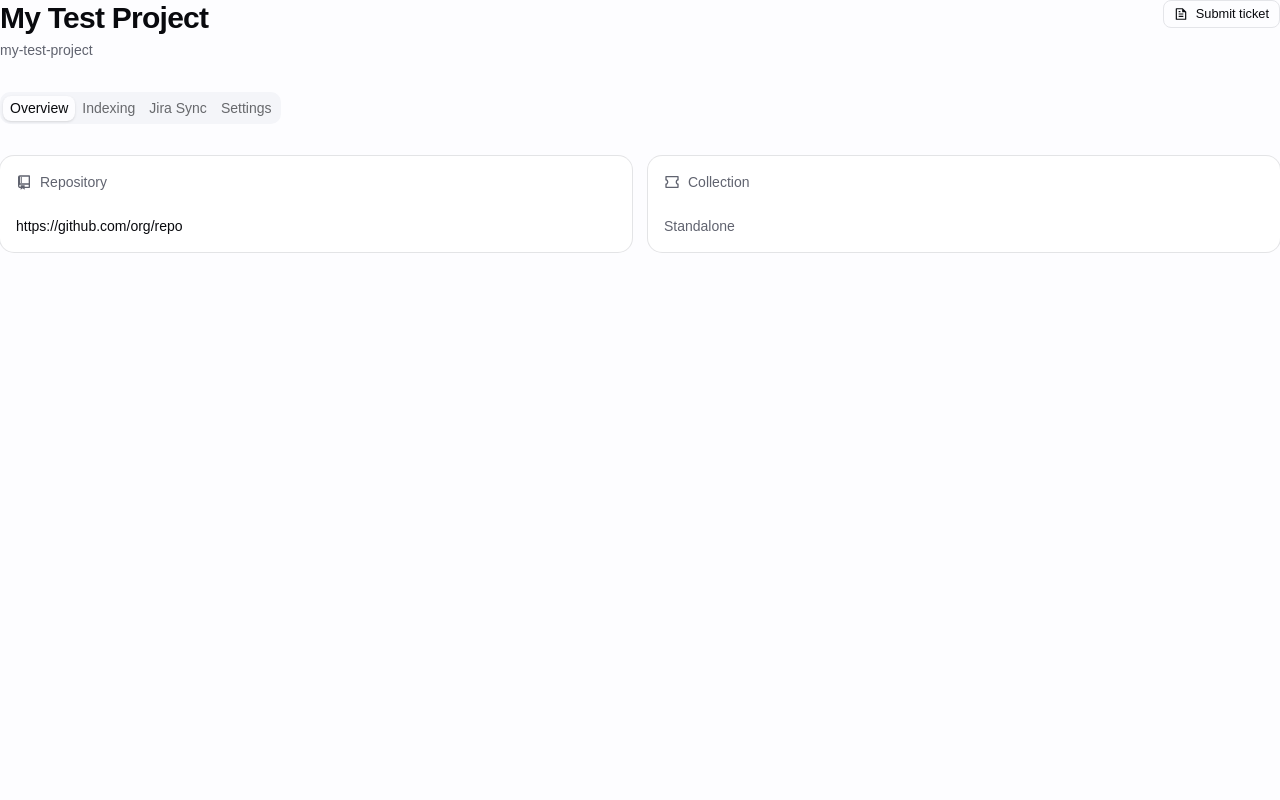
Test: ProjectDetailPage › delete project opens confirmation dialog
Check: the heading "My Test Project" is shown, box [0, 0, 208, 36]
Click the tab "Settings": coordinates (246, 108) [214, 96, 278, 120]
(page scrolled)
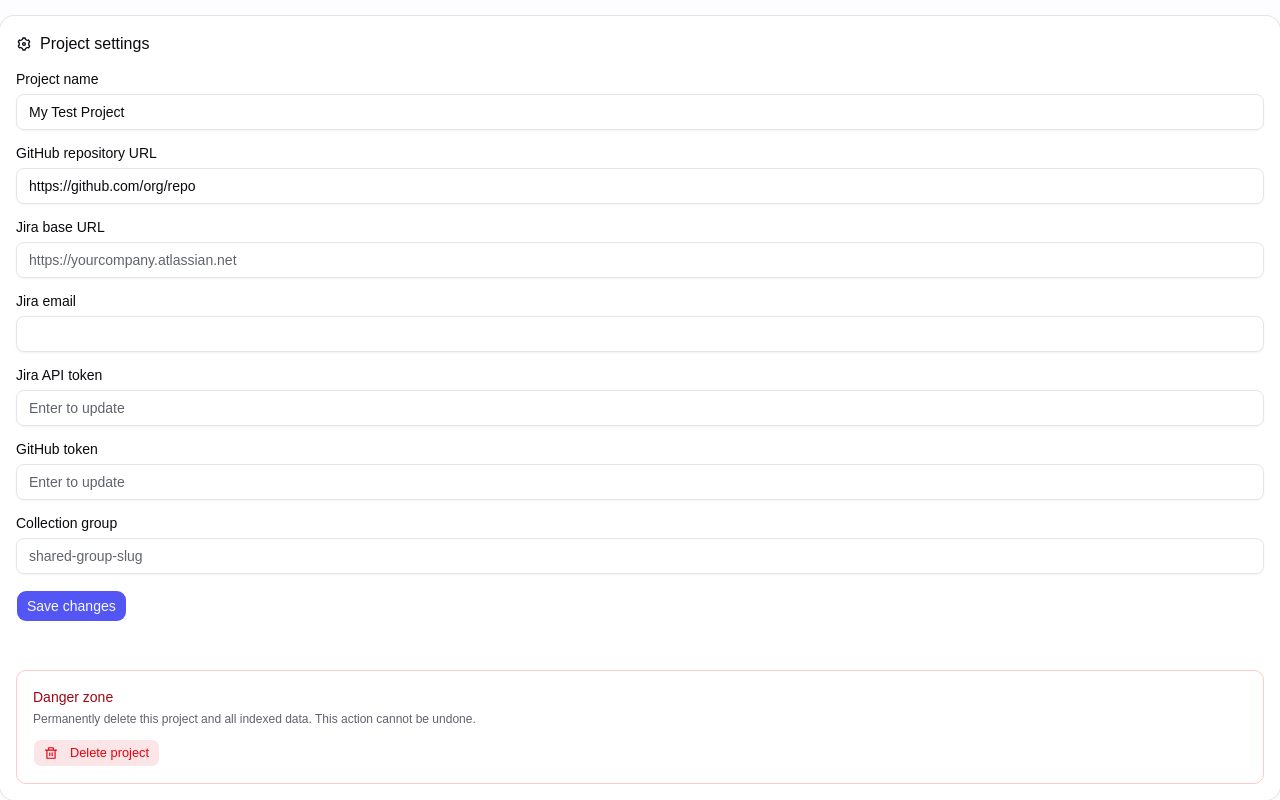
Check: the button "Delete project" is shown
Click delete - this opens the dialog
Click the button "Delete project": coordinates (96, 753) [33, 739, 160, 767]
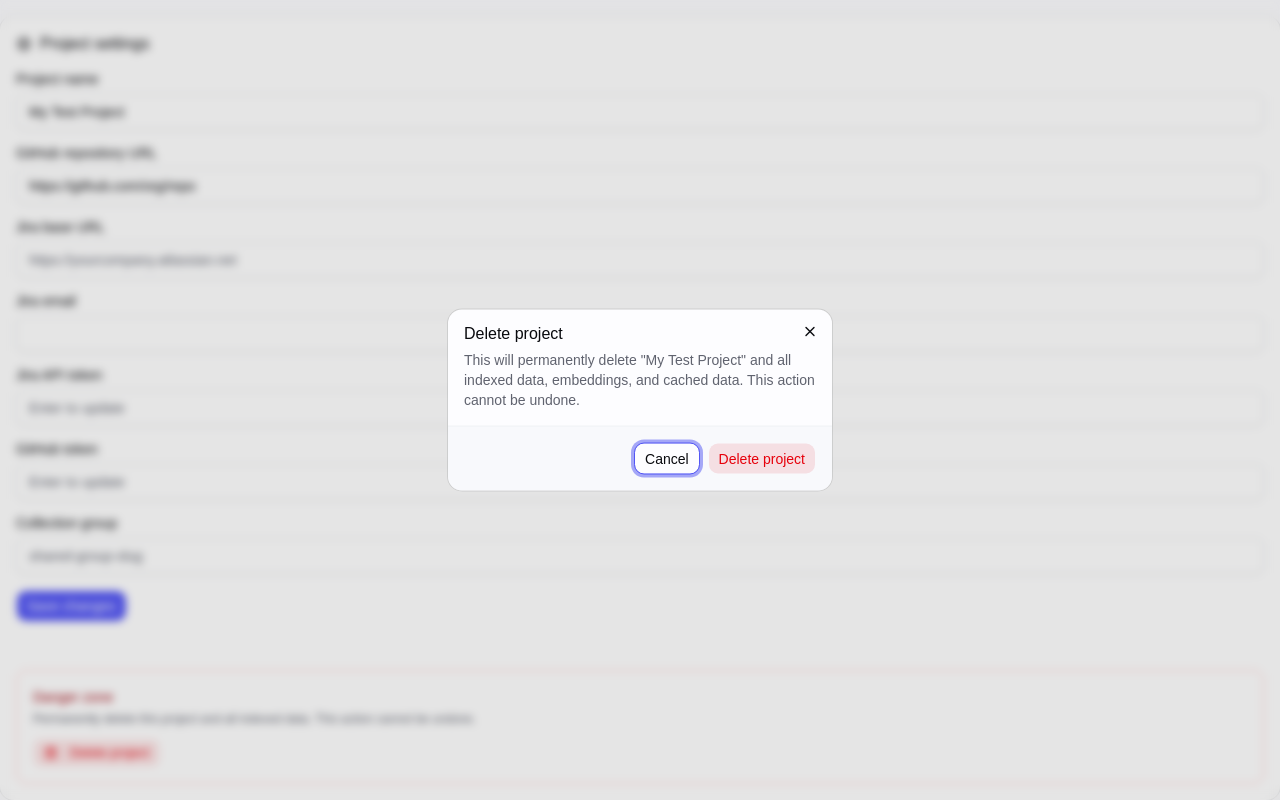
Check: the heading "Delete project" is shown, box [464, 324, 563, 342]
